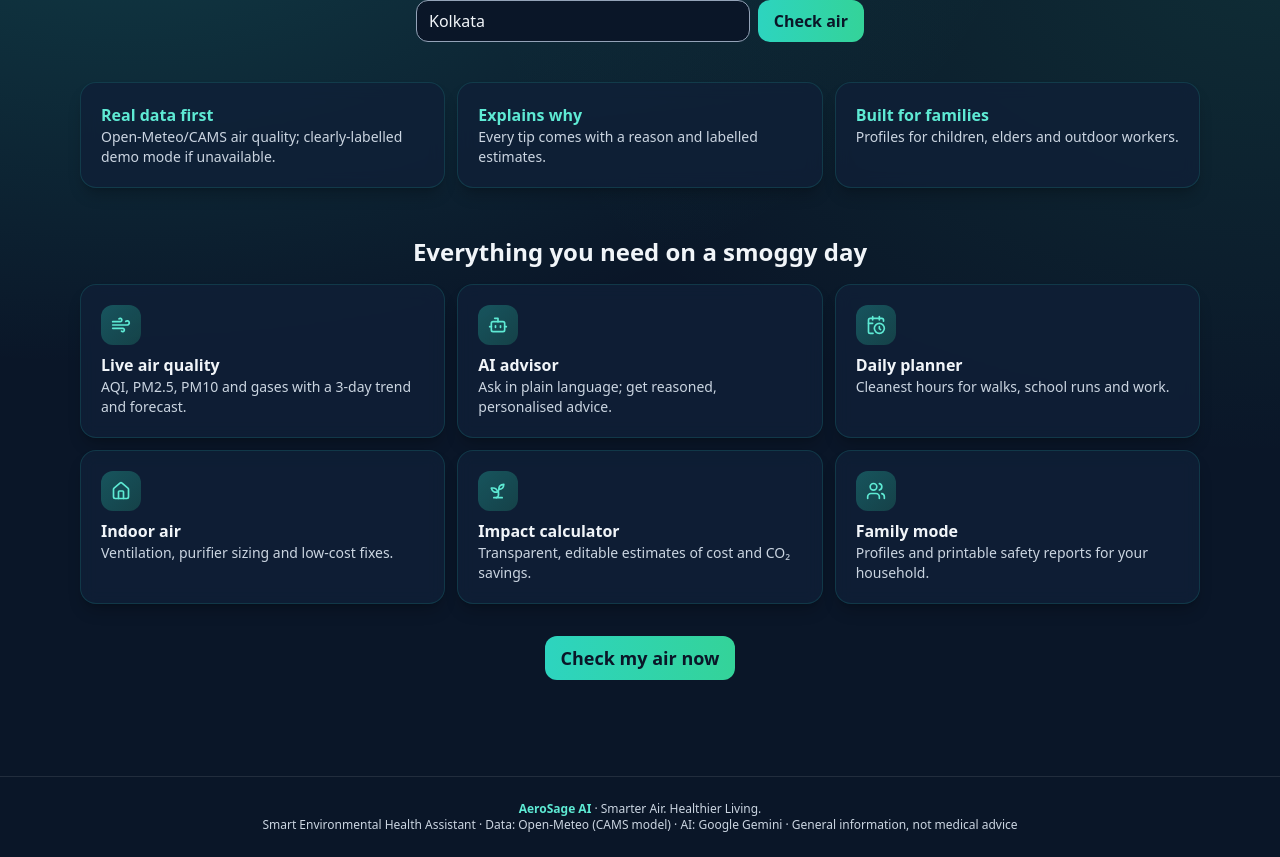
Test: loading and error states › explains network failure in plain language
(page scrolled)
Click the button "Check my air now": click(640, 658) [545, 636, 736, 680]
(page scrolled)
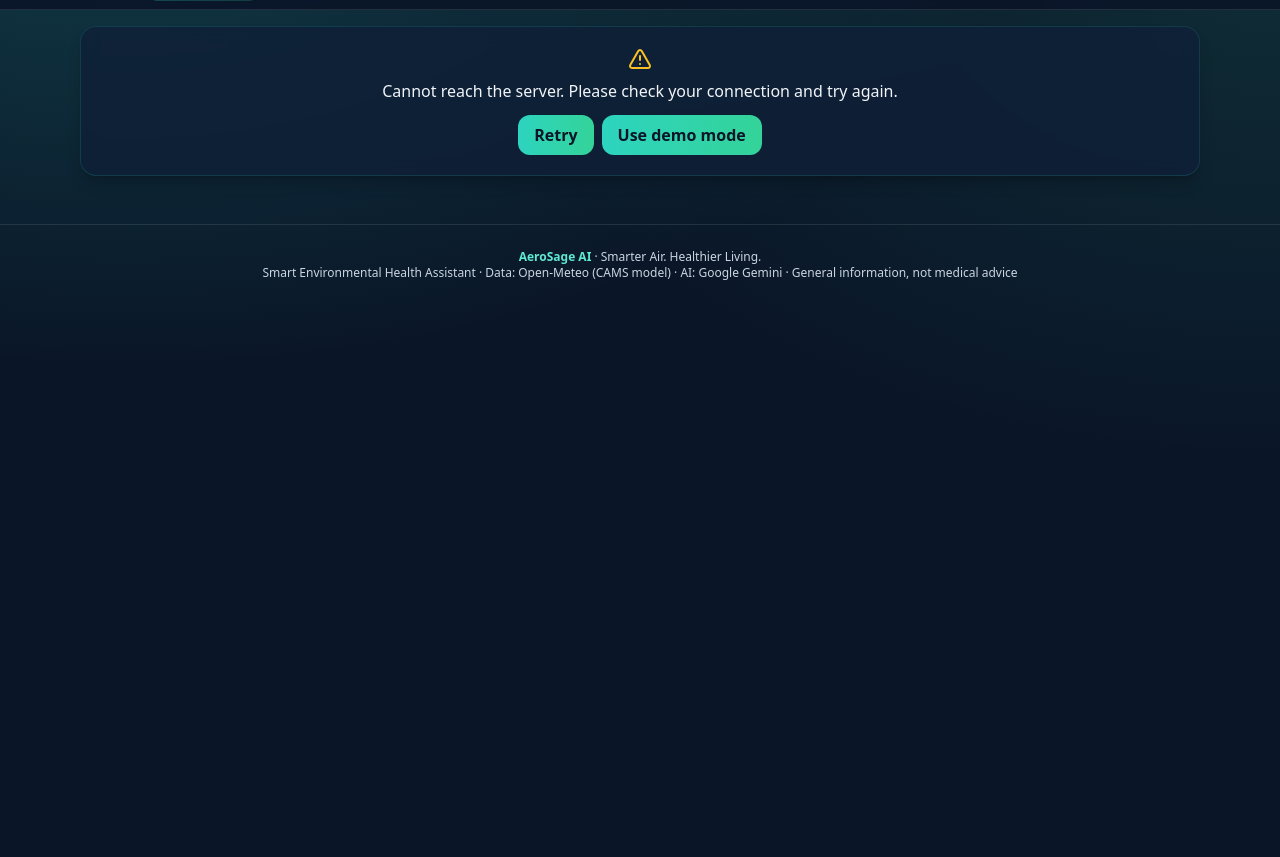
Result: the message shows "Cannot reach the server" at [382, 80, 898, 102]
